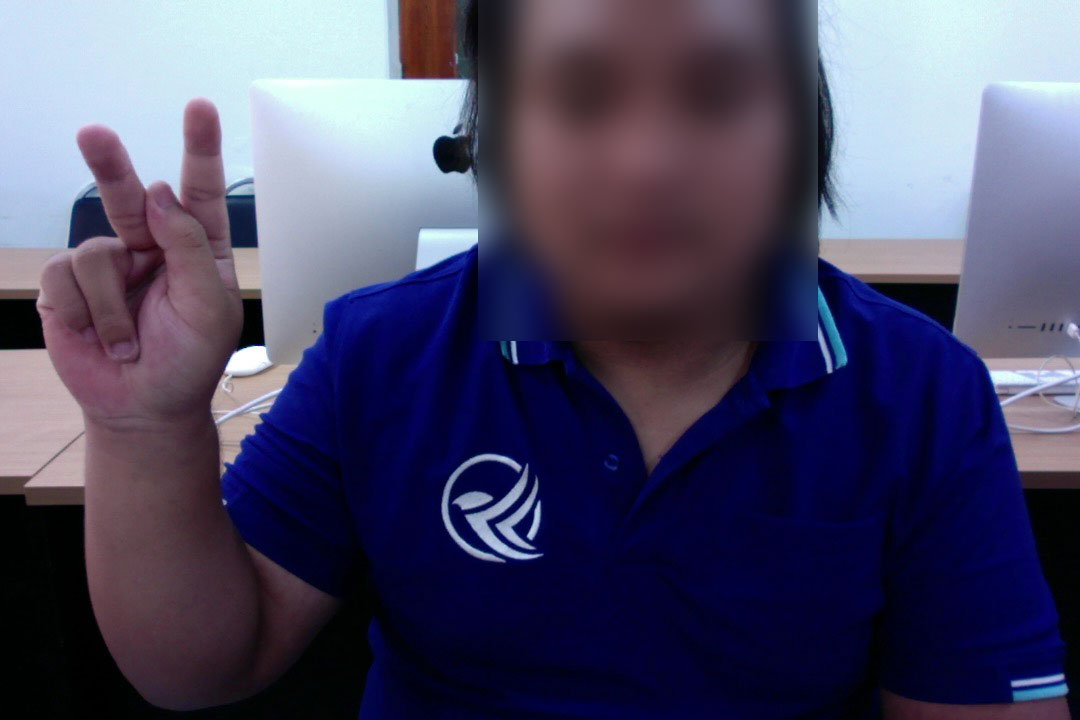ko: (25, 89, 256, 438)
